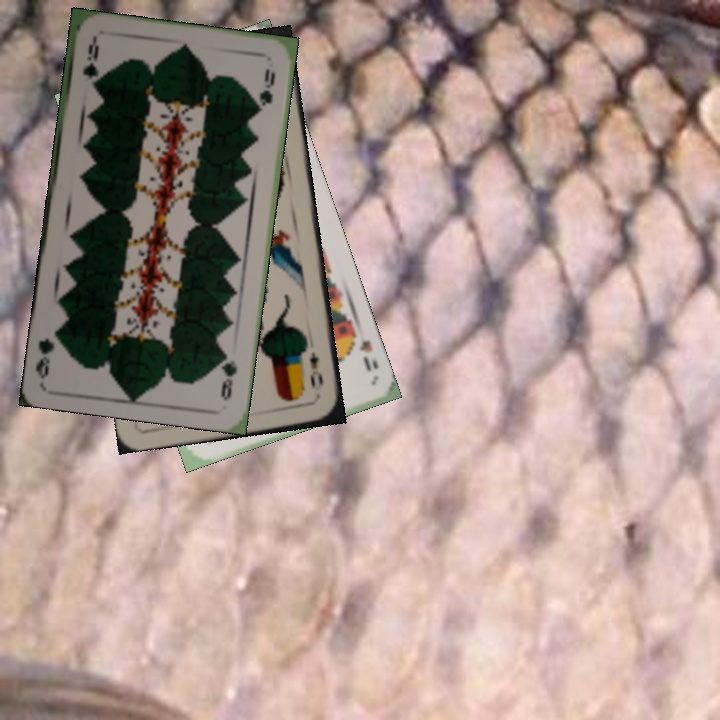EO: (305, 347, 326, 391)
G9: (217, 346, 240, 403), (78, 36, 101, 91)
S9: (343, 323, 375, 374)
